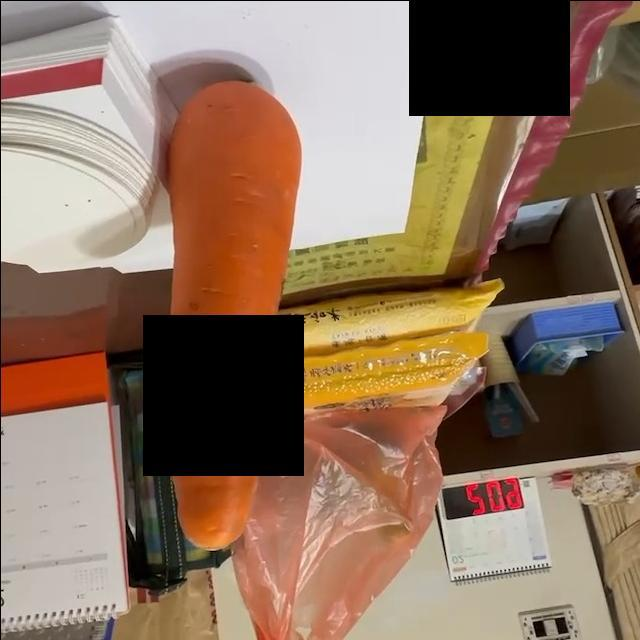carrot: (162, 77, 304, 553)
